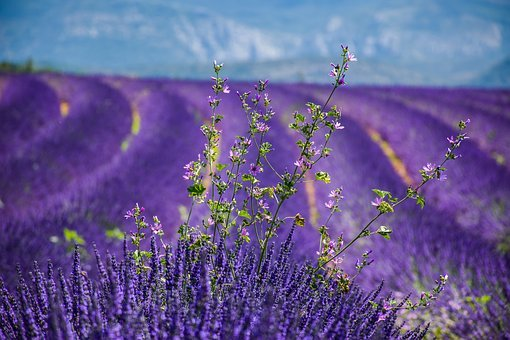field: (1, 70, 510, 340)
flower: (1, 70, 510, 340), (48, 162, 455, 330)
